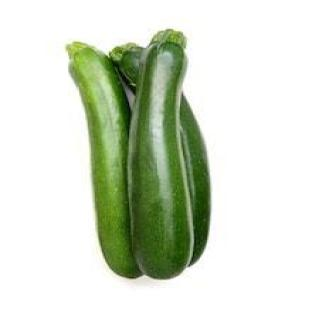Zucchini: (67, 42, 141, 277), (128, 30, 192, 278), (181, 95, 211, 265)
